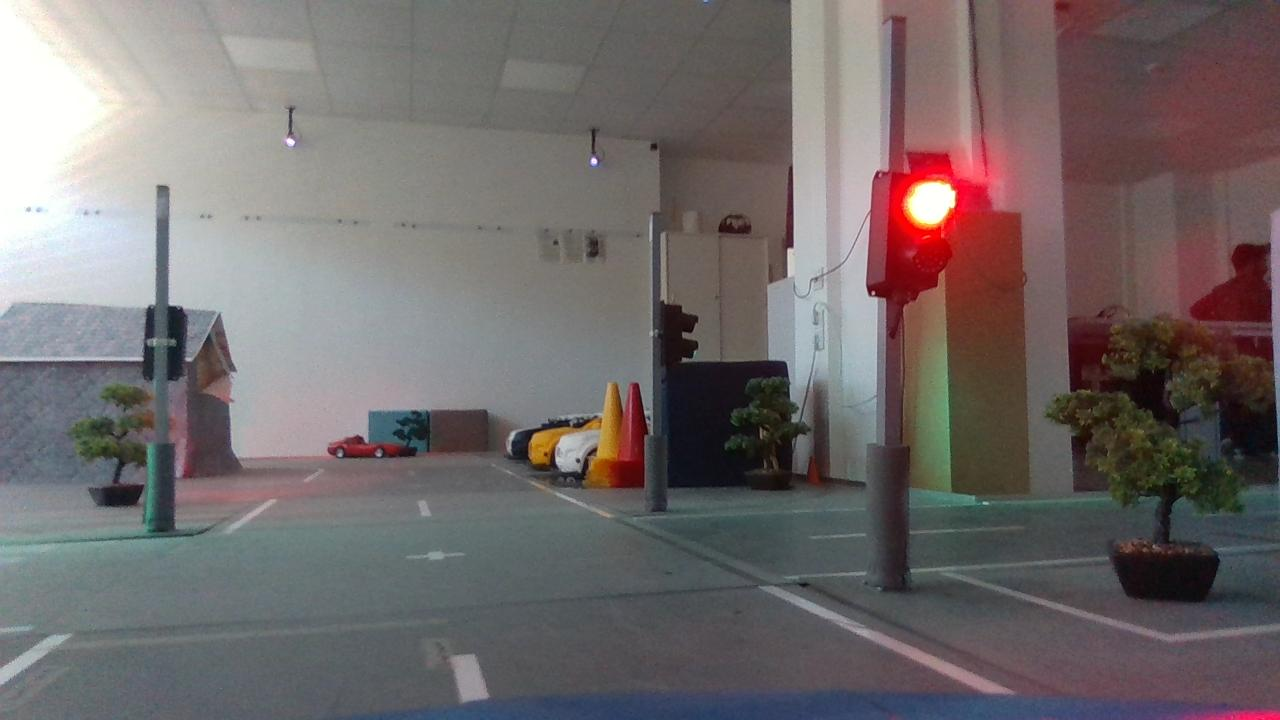traffic_light_red: (847, 153, 967, 321)
